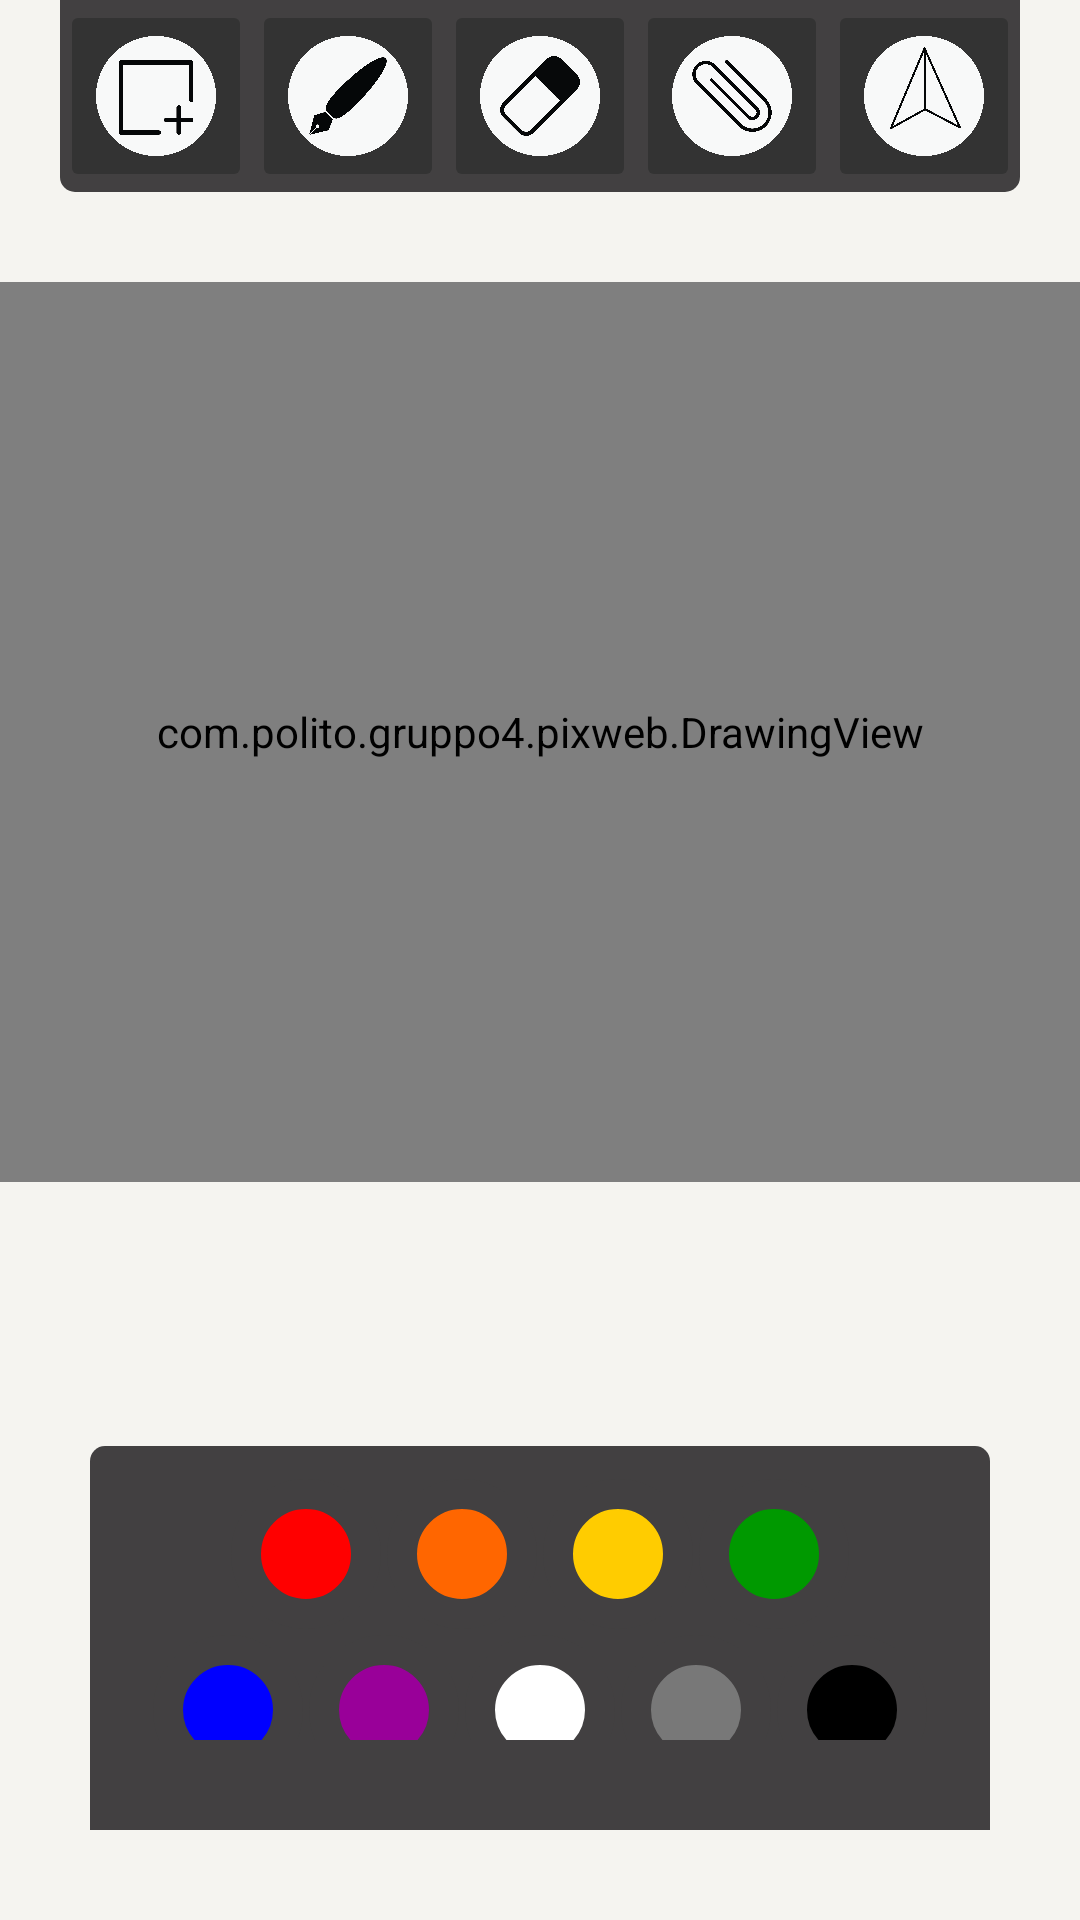

Icon bounding boxes for this 1080*1920 phone screenshot, format (x1, y1, x2, y2):
Brush: (288, 36, 408, 156)
Erase: (480, 36, 600, 156)
New: (96, 36, 216, 156)
